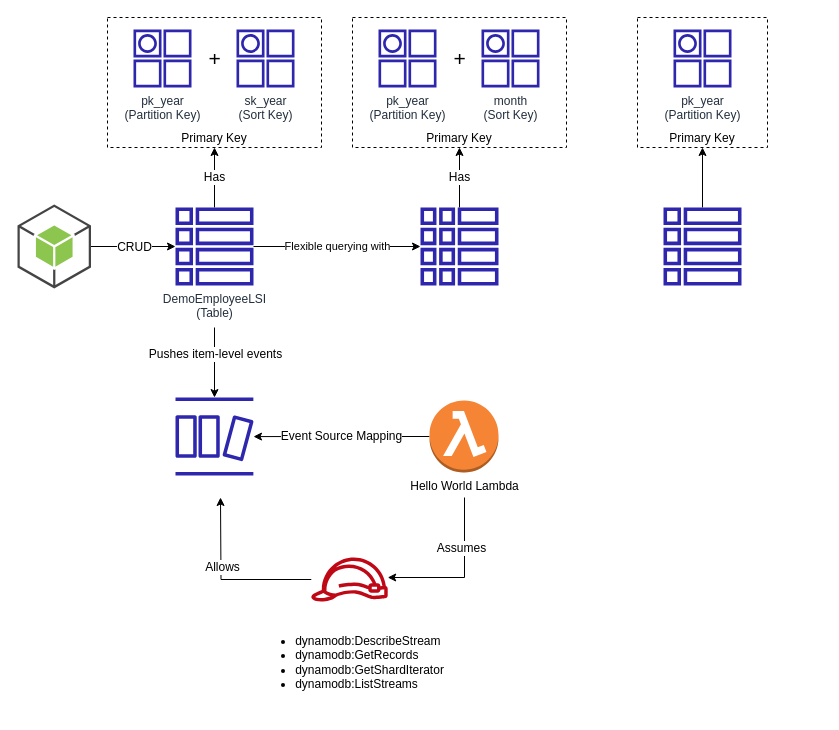
Some shapes in this 839 by 730 pixel diagram are drawn without their labels. The centre of each missing label's shape, as x and y in pixels:
"app (HTTP API)" goes at [53,246].
"byMonth (Local Secondary Index)" goes at [459,246].
"DemoEmployee" goes at [702,246].
"Dynamo Stream" goes at [214,436].
